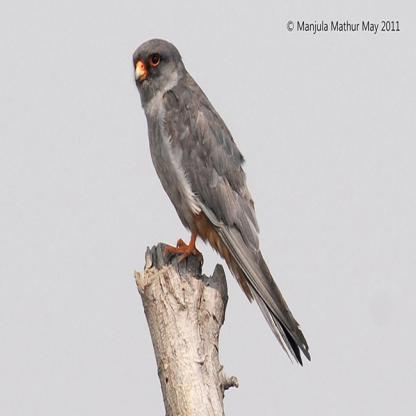Burung: (130, 38, 312, 366)
